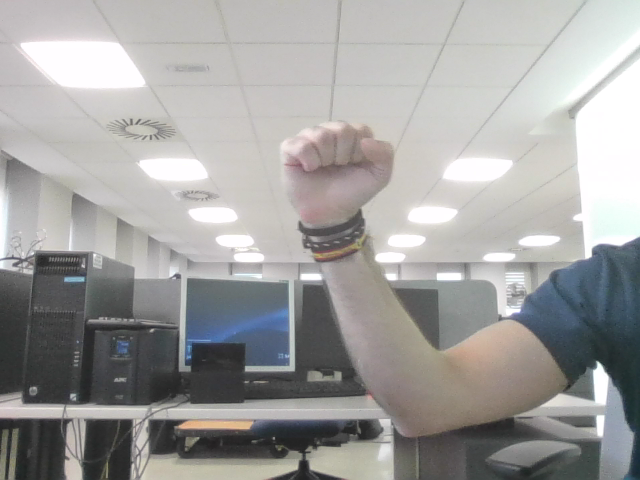Puño: (294, 130, 381, 197)
